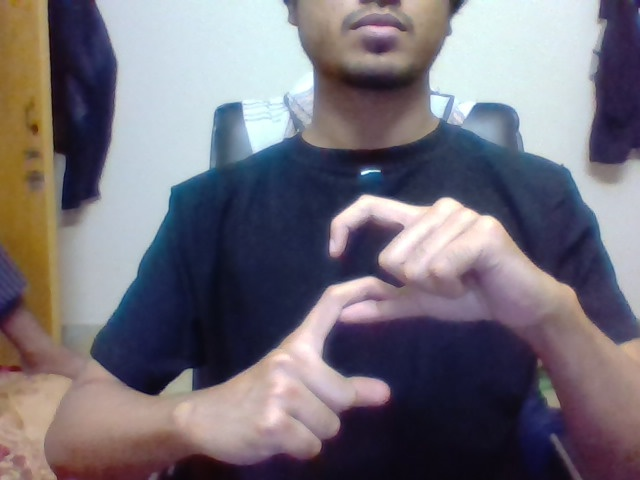S: (318, 191, 409, 410)
